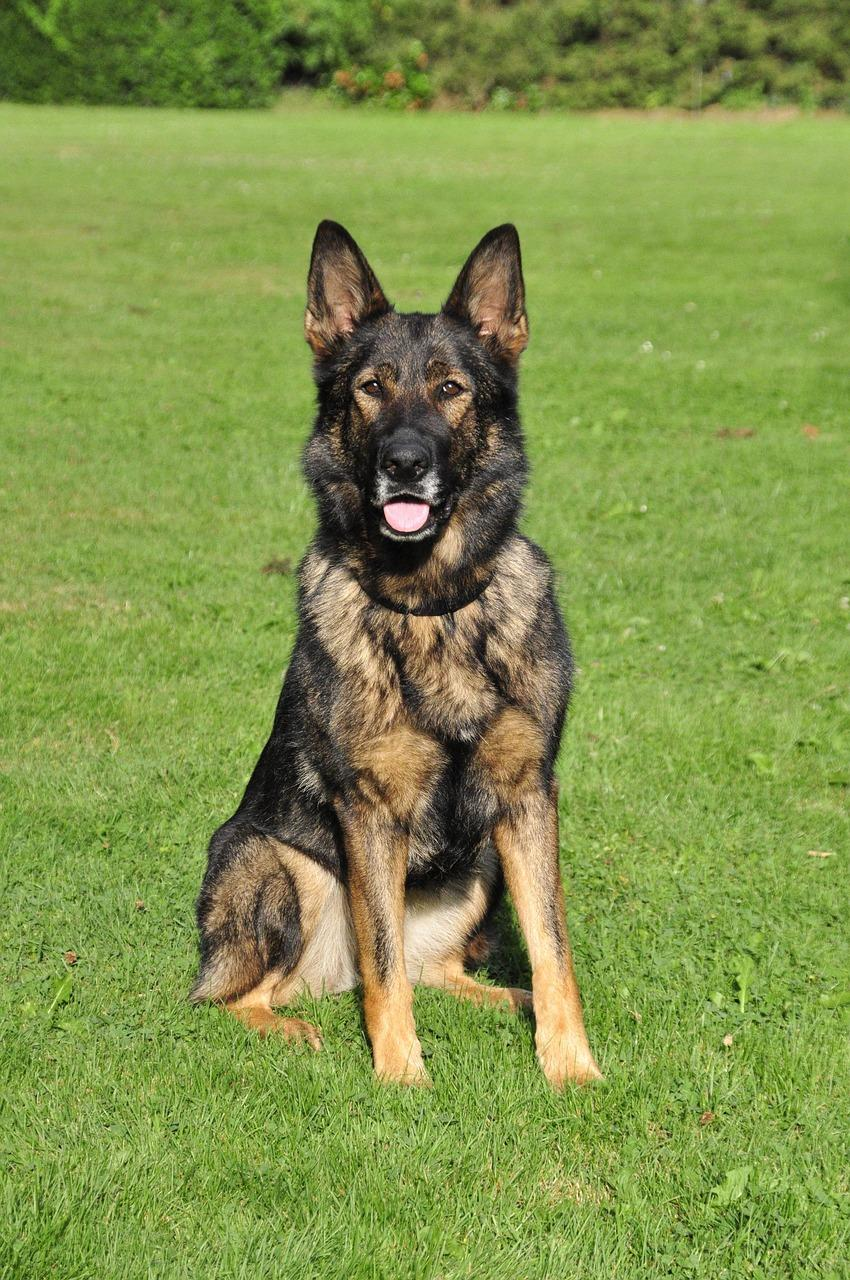german_shepherd: (288, 260, 558, 568)
